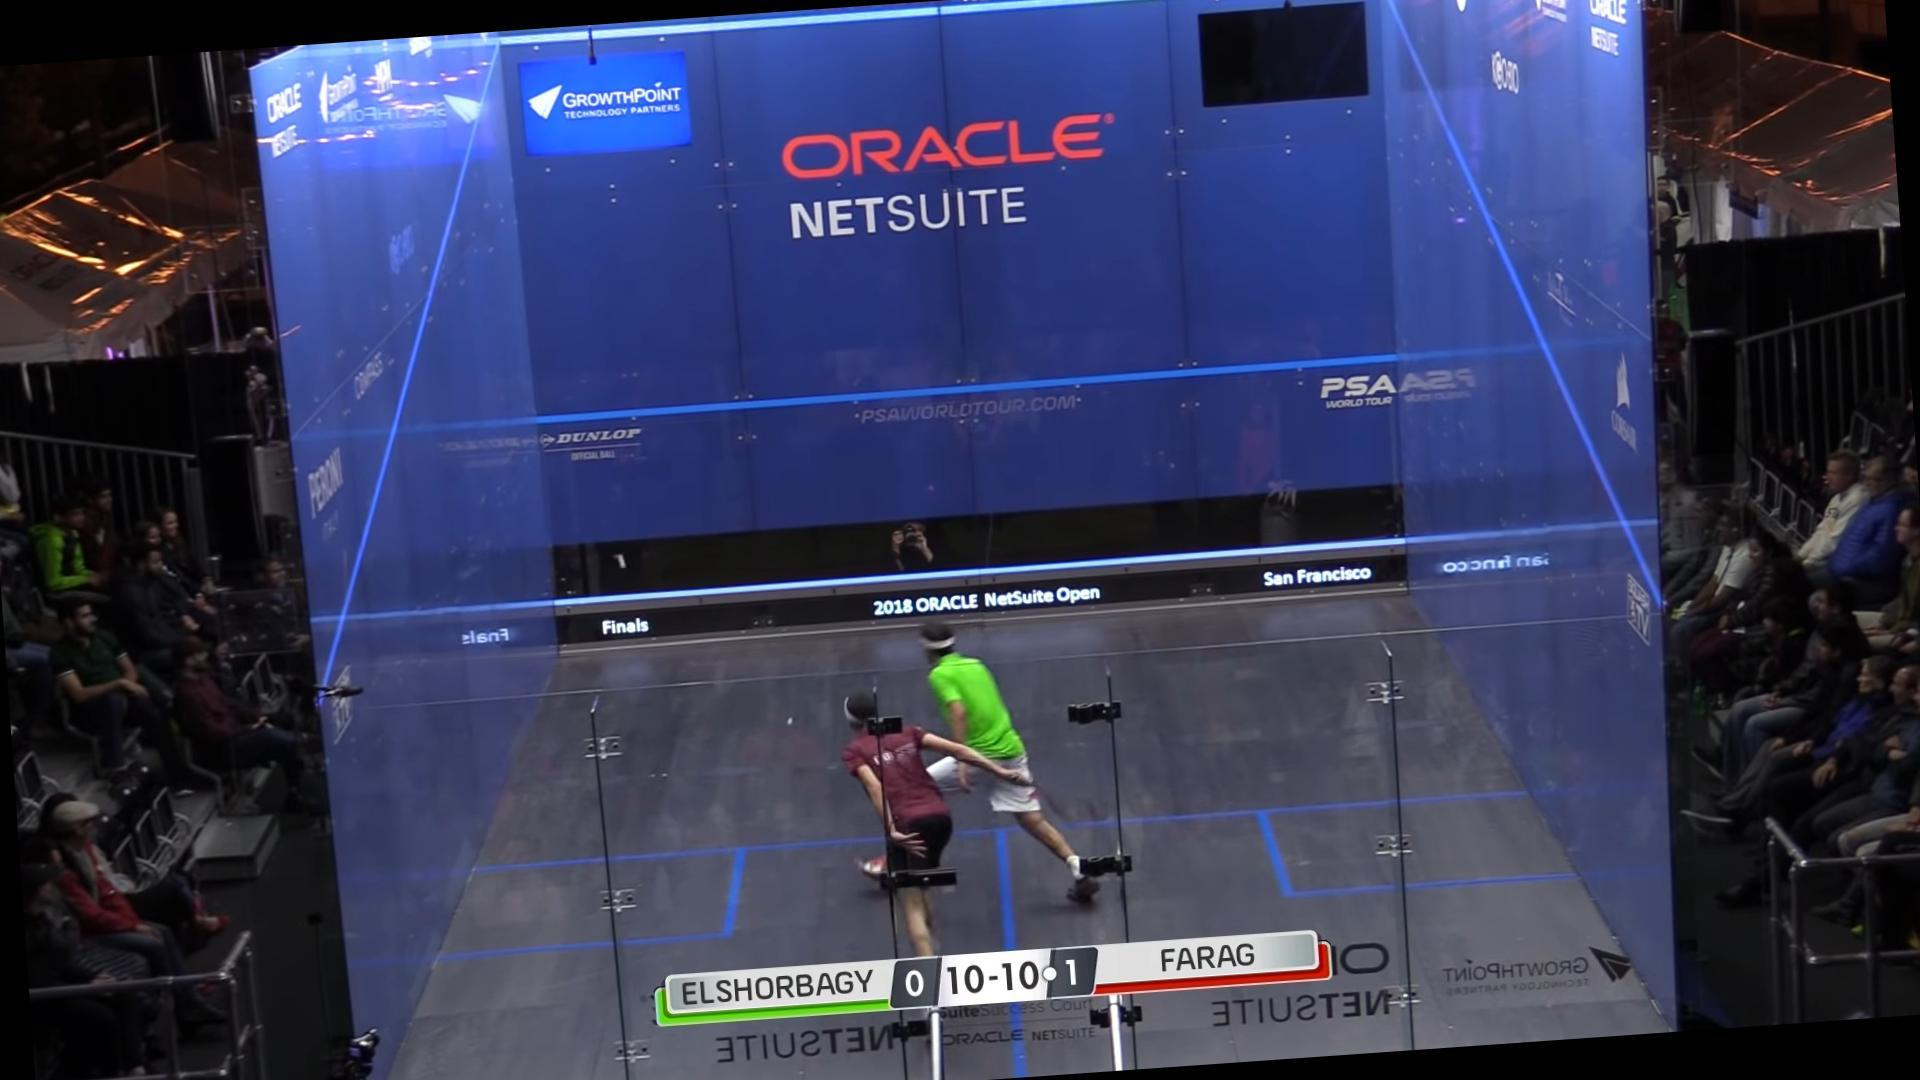Squash-Ball: (611, 553, 640, 574)
